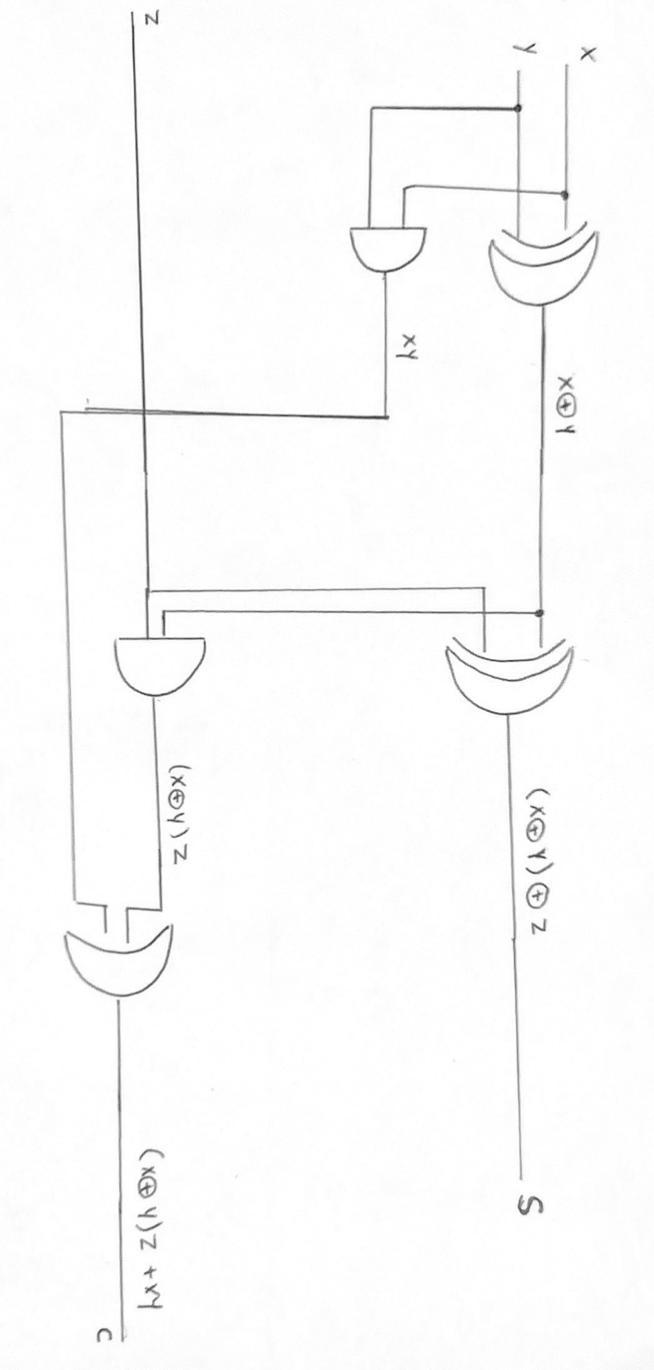AND: (110, 620, 220, 703), (341, 214, 439, 287)
OR: (47, 916, 190, 1002)
XOR: (428, 622, 605, 716), (475, 207, 610, 320)
